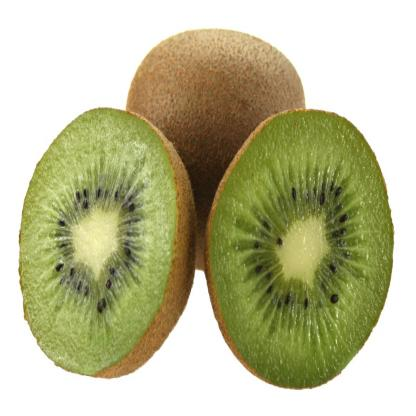--: (204, 103, 399, 403), (13, 104, 202, 385)
